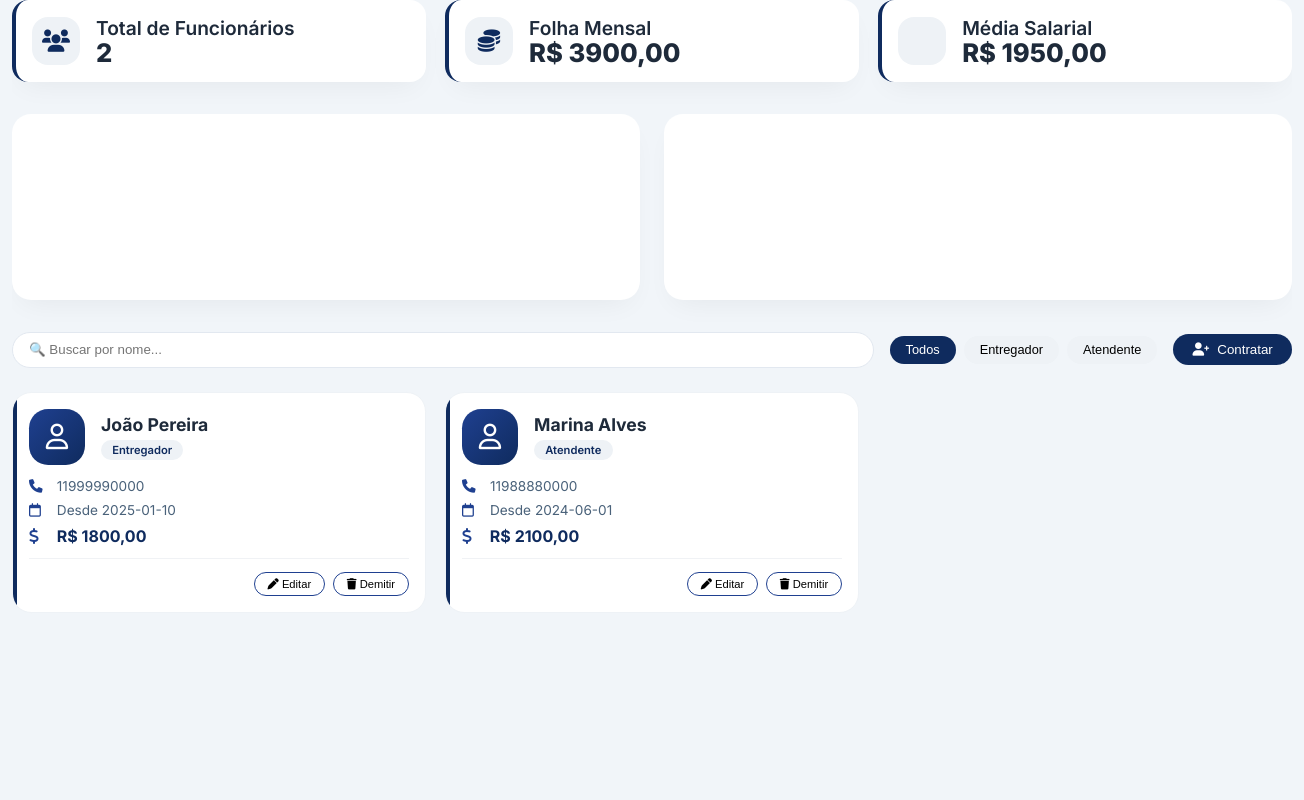
Test case: EmployeesSection (painel admin — funcionários) › filtra por cargo e busca por nome
The width and height of the screenshot is (1304, 800).
Click the button "Entregador": [1011, 350] box [964,336,1059,364]
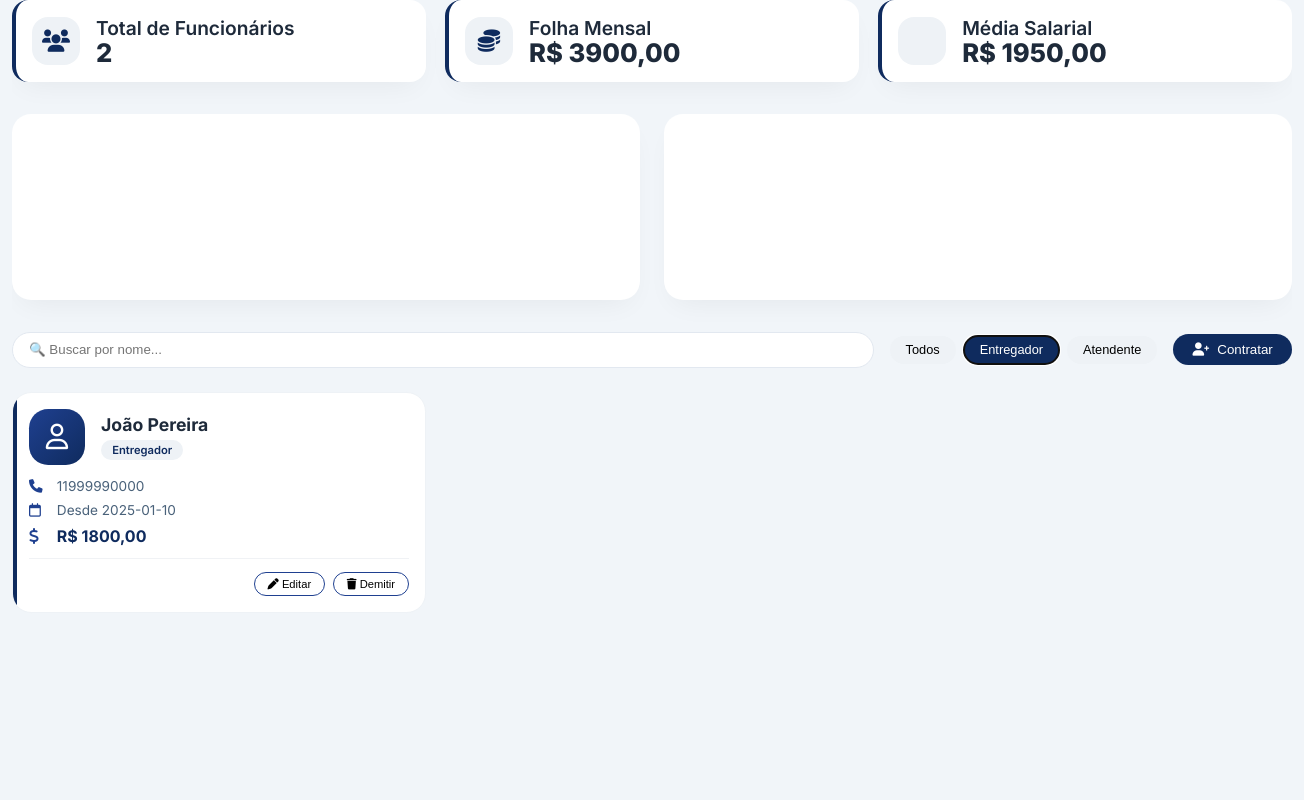
Expected: the heading "João Pereira" is shown, [101,414,208,435]
Expected: the heading "Marina Alves" is gone
Click the button "Todos": [923, 350] box [890,336,956,364]
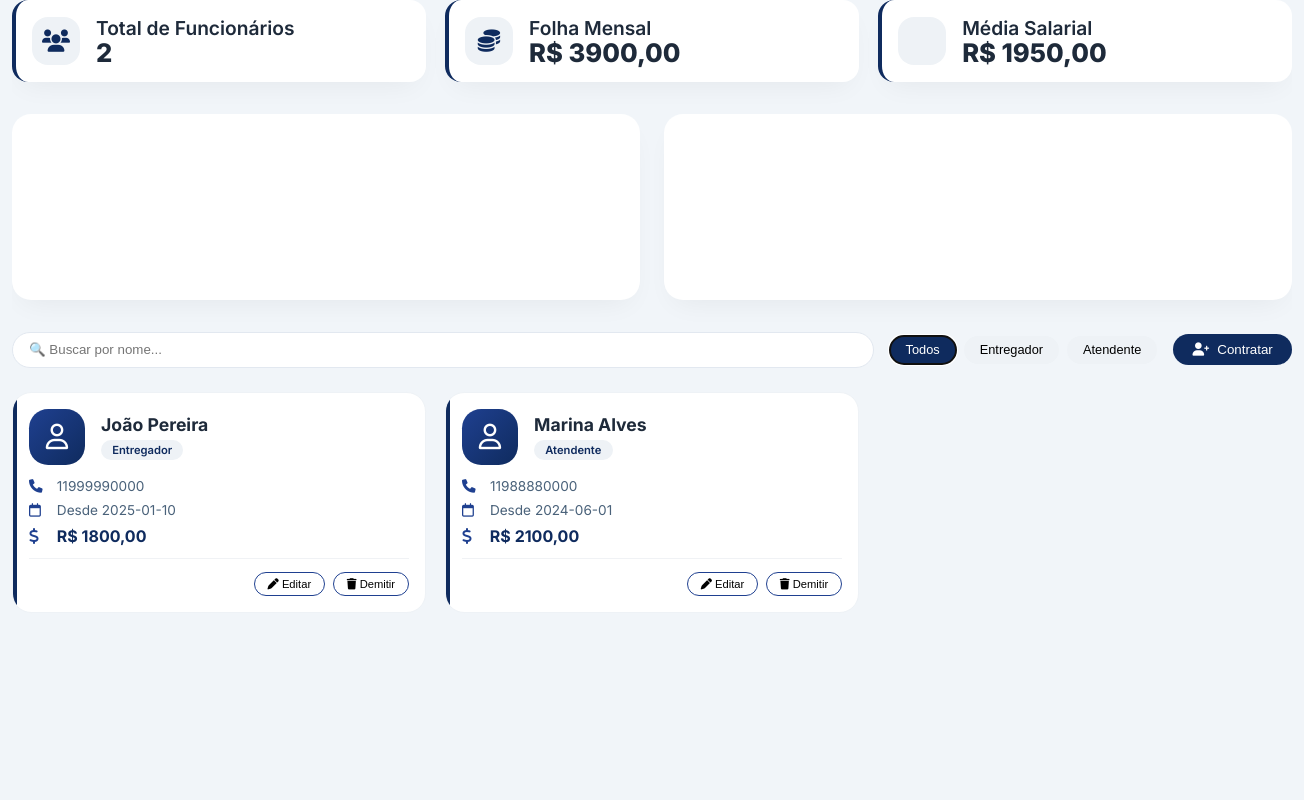
In the field with placeholder "🔍 Buscar por nome...": [443, 350] box [12,332,874,368], type "marina"
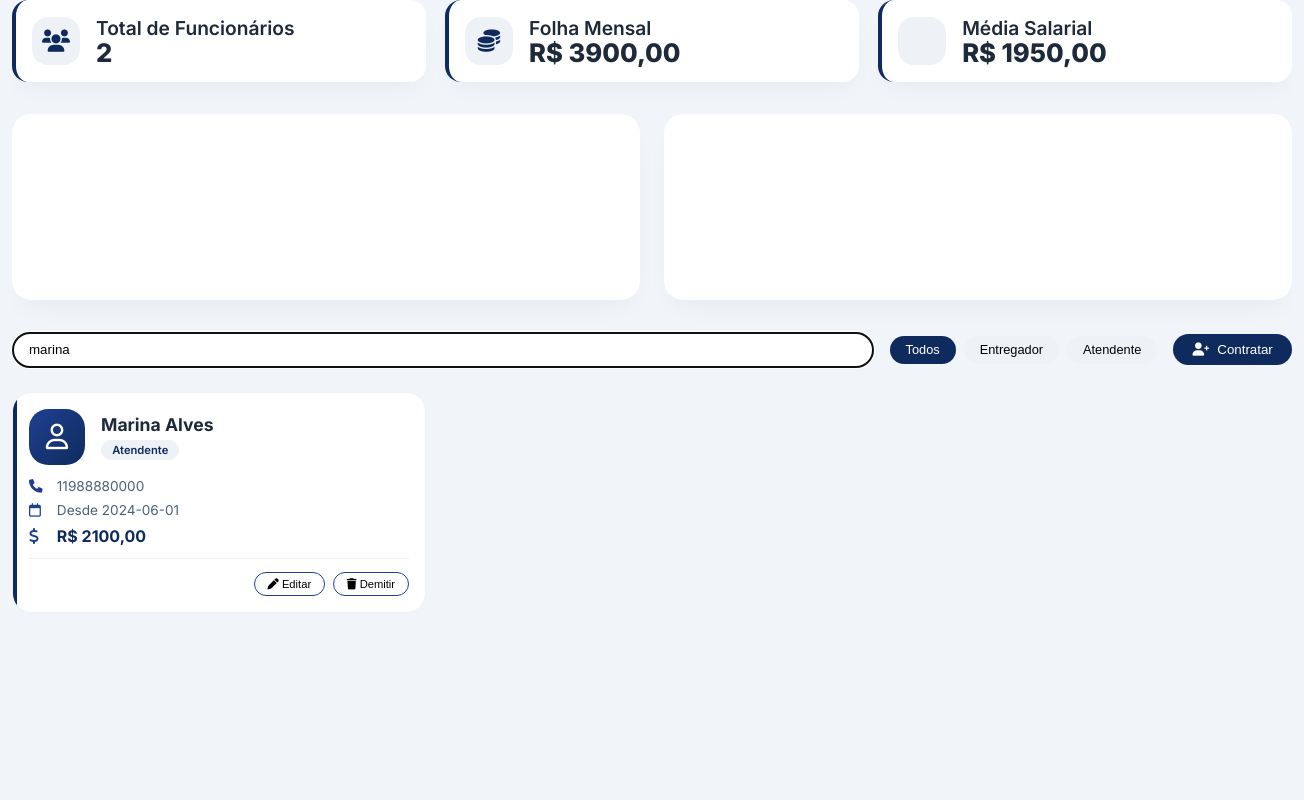
Expected: the heading "Marina Alves" is shown, [101,414,214,435]
Expected: the heading "João Pereira" is gone
